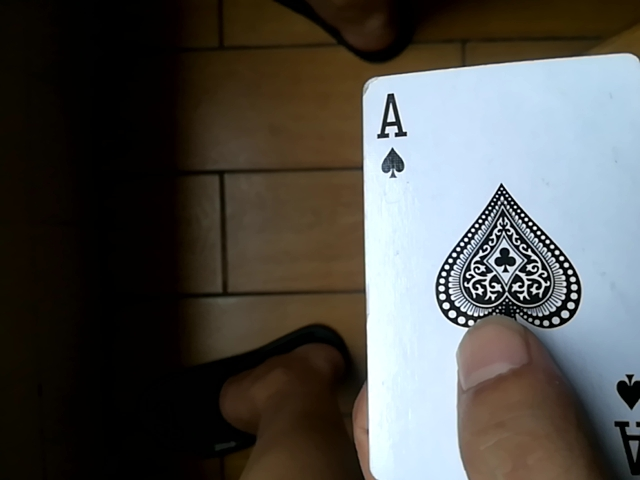ht a: (354, 51, 628, 478)
